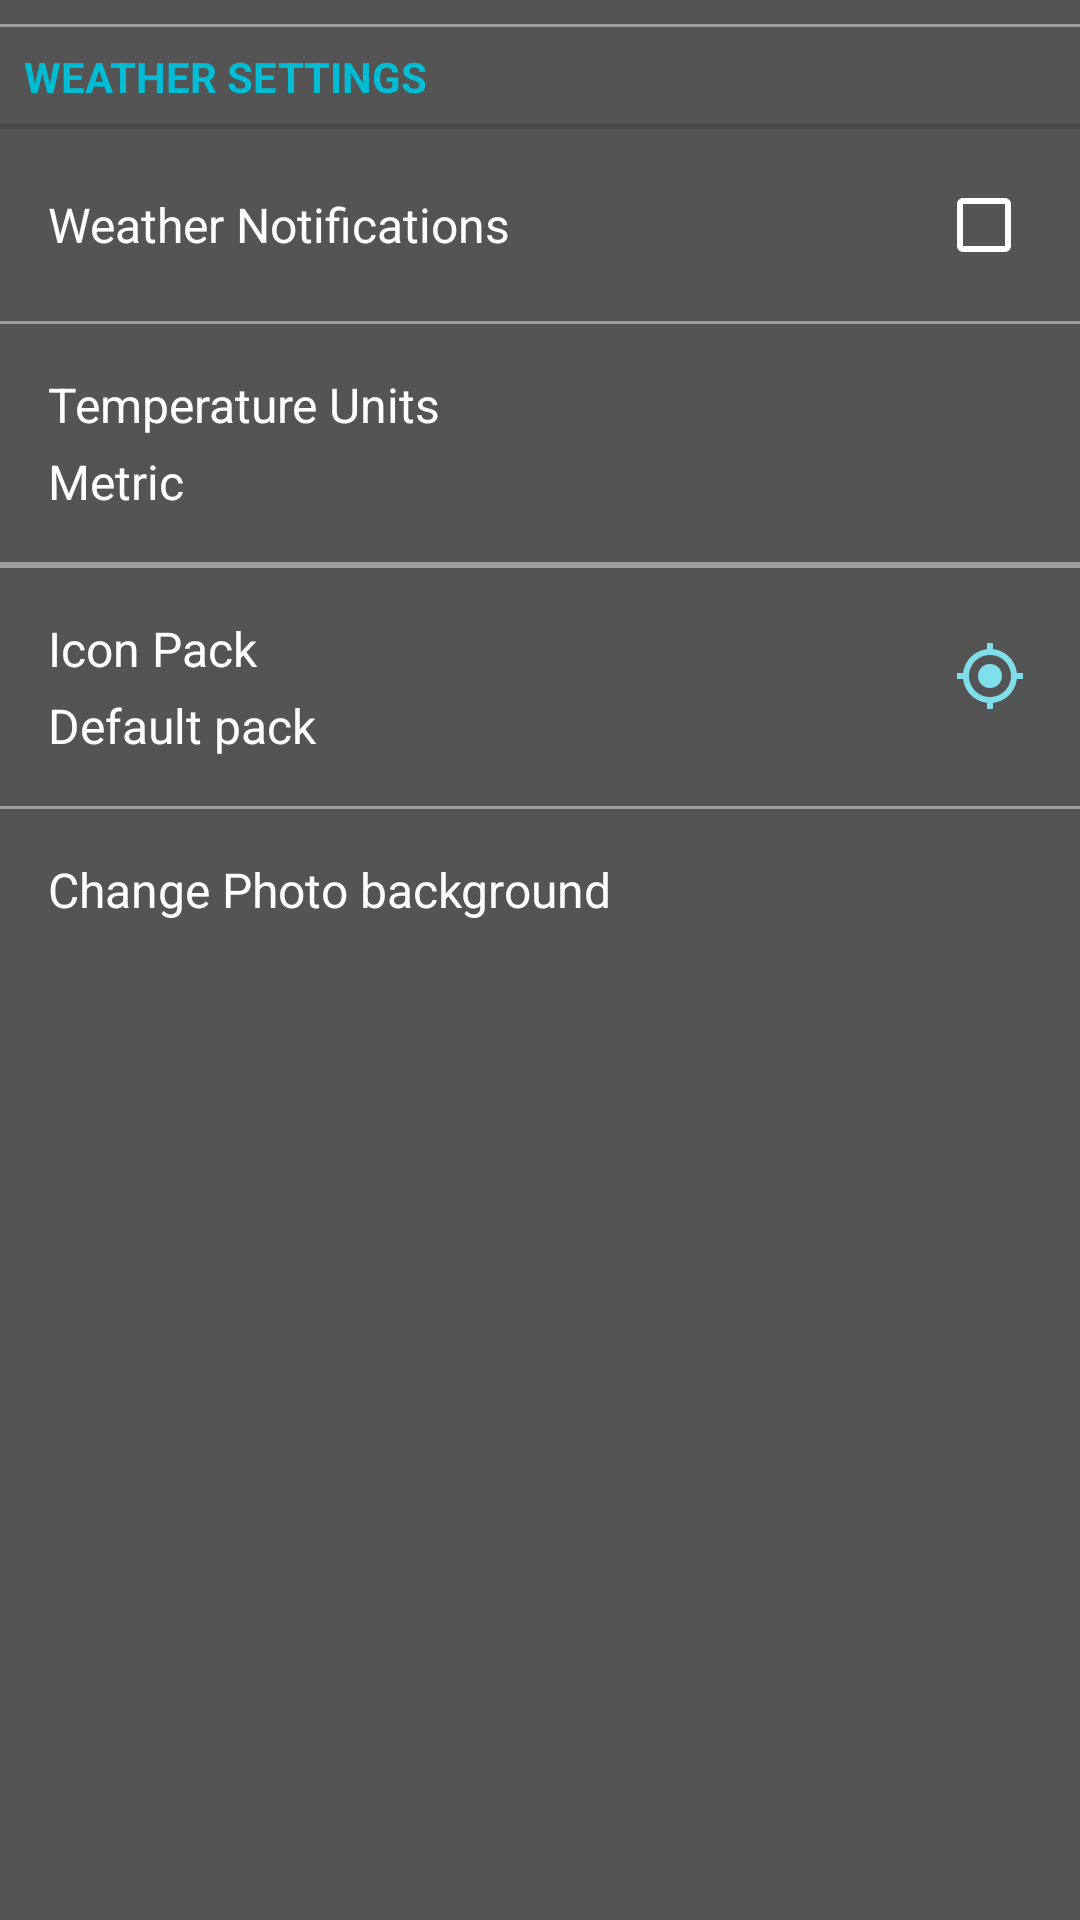

Where icons sit on this 1080w x 1920h app screen, as (x1, y1, x2, y2):
location: (957, 643, 1023, 709)
